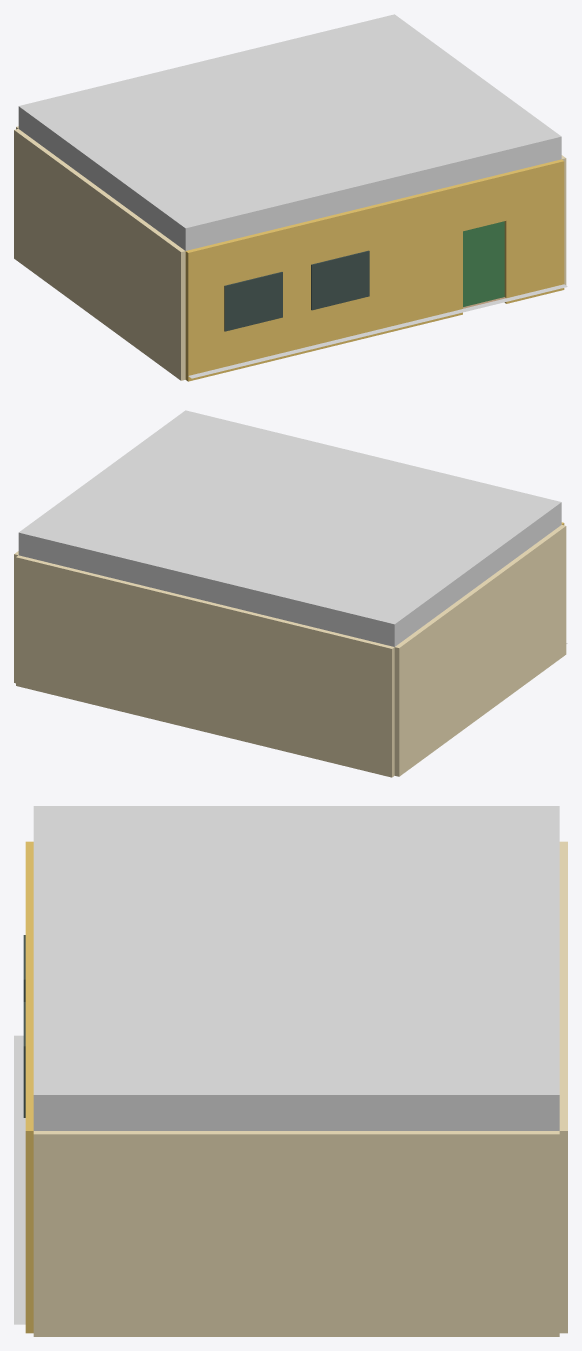
The model's file is zone_classroom.glb.
3 views of the same model, one above another, from view 1: azimuth 30°, elevation 25°; view 2: azimuth 150°, elevation 25°; view 3: azimuth 270°, elevation 25° (orthographic). The views are drawn at different scales.
Visible parts, largest first — view 1: ZONE_classroom, WALL_class_front_a, WALL_class_west, WALL_class_front_b, GATE_class_door_closed, WINDOW_class_1, WINDOW_class_2, WALL_class_lintel, FLOOR_classroom; view 2: ZONE_classroom, WALL_class_back, WALL_class_west; view 3: ZONE_classroom, WALL_class_east, WALL_class_back, FLOOR_classroom, WALL_class_front_b, WALL_class_front_a.
Part boxes in pixels (x1,y1,x2,y2): ZONE_classroom: (18,14,561,250); WALL_class_front_a: (185,184,462,381); WALL_class_west: (14,129,185,380); WALL_class_front_b: (504,159,564,303); GATE_class_door_closed: (463,221,504,306); WINDOW_class_1: (224,272,282,331); WINDOW_class_2: (311,250,369,310); WALL_class_lintel: (461,173,506,231); FLOOR_classroom: (188,284,567,378); ZONE_classroom: (18,410,561,646); WALL_class_back: (16,555,394,777); WALL_class_west: (394,525,566,776); ZONE_classroom: (33,806,559,1130); WALL_class_east: (33,1131,559,1336); WALL_class_back: (559,841,567,1333); FLOOR_classroom: (14,1035,25,1324); WALL_class_front_b: (25,1086,33,1333); WALL_class_front_a: (25,841,33,1052).
Size of what is drawn, in the model's own units: 10.65 by 4 by 8.42.
